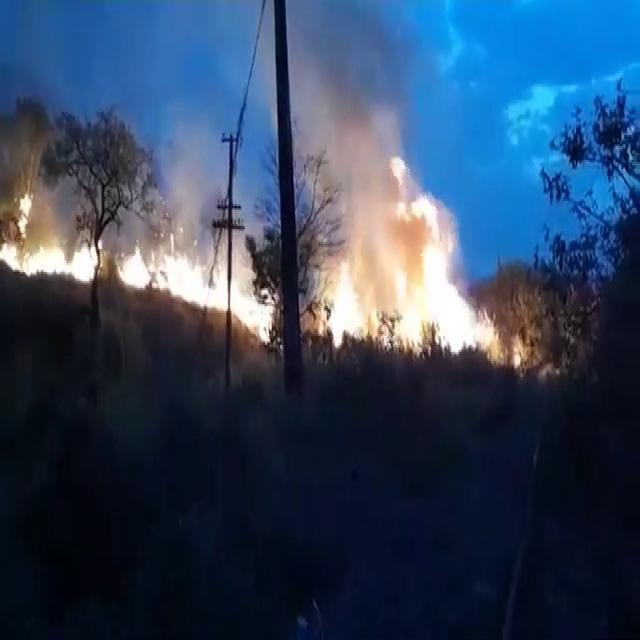Fire: (325, 179, 488, 361), (115, 232, 272, 342), (1, 193, 94, 280)
Smoke: (297, 8, 410, 238), (162, 110, 224, 242)
